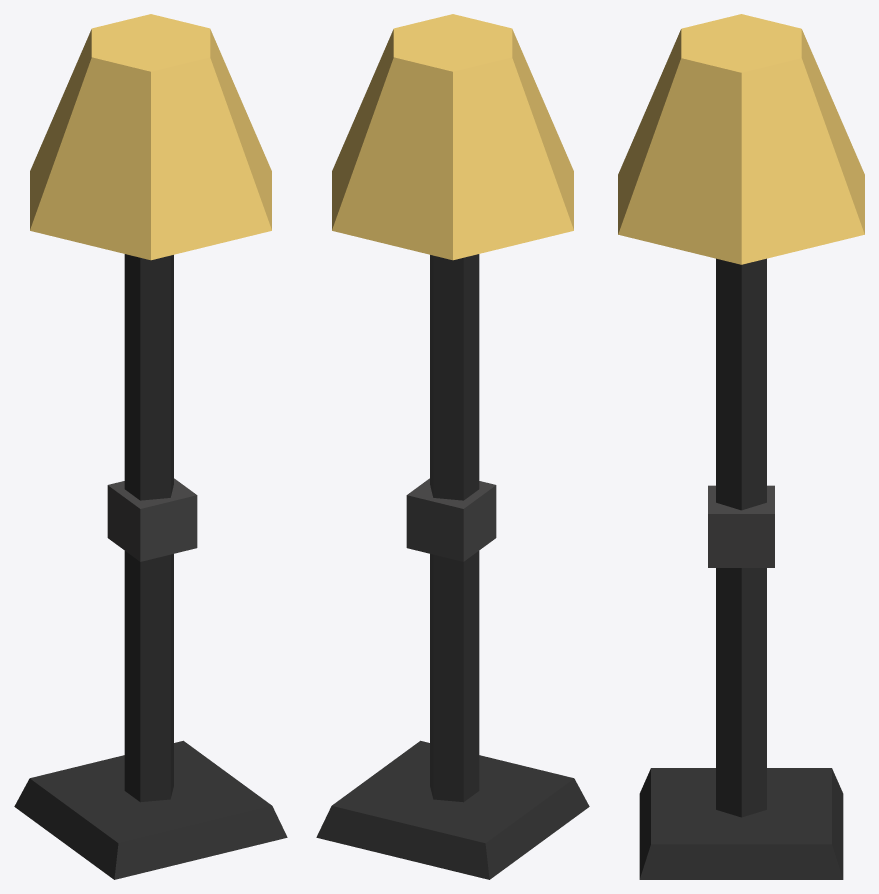
The model's file is Lamp_2.fbx.
3 views of the same model, side by side, from view 1: azimuth 30°, elevation 25°; view 2: azimuth 150°, elevation 25°; view 3: azimuth 270°, elevation 25° (orthographic).
Visible parts, largest first — view 1: polySurface1486; view 2: polySurface1486; view 3: polySurface1486.
Part boxes in pixels (left/top/right/bottom): polySurface1486: left=14, top=14, right=287, bottom=879; polySurface1486: left=316, top=14, right=589, bottom=879; polySurface1486: left=618, top=14, right=864, bottom=879.
Bounding box in the file's own units: 0.7403 × 2.28 × 0.6411.
1 material, 1 textured.
